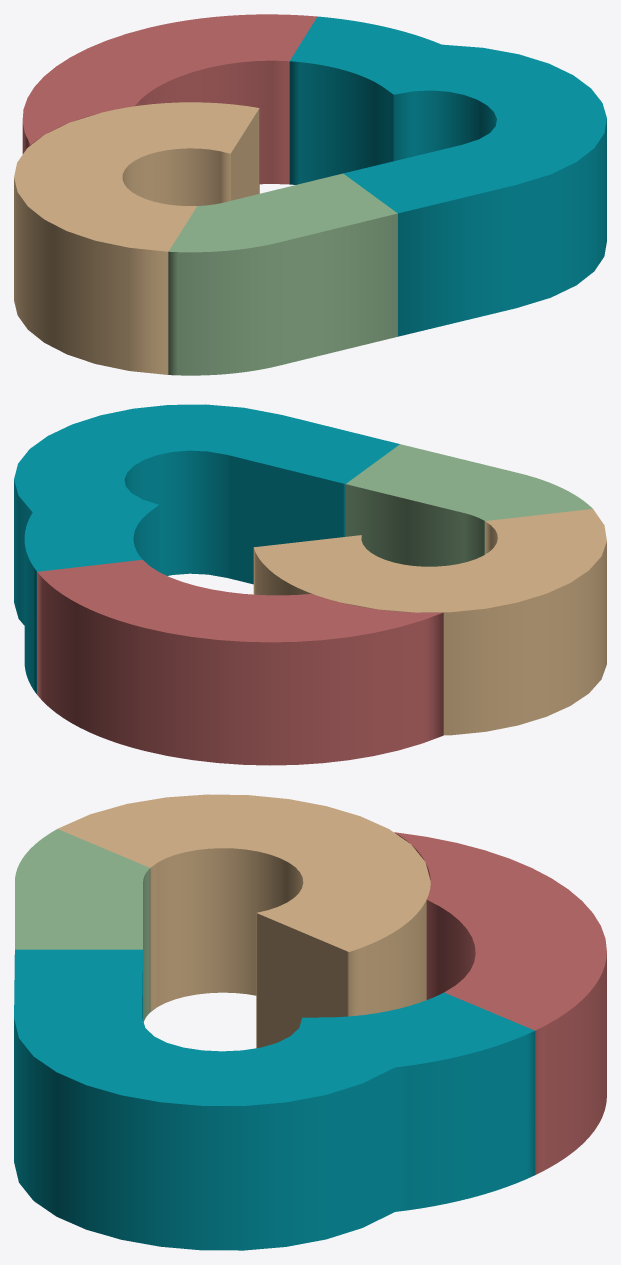
Rendered from google-cloud.fbx.
The picture shows the model from 3 angles, top to bottom: view 1: azimuth 30°, elevation 25°; view 2: azimuth 150°, elevation 25°; view 3: azimuth 270°, elevation 25°; orthographic projection. The views are drawn at different scales.
Visible parts, largest first — view 1: path8, path12-6, path10, path6; view 2: path6, path8, path12-6, path10; view 3: path8, path12-6, path6, path10.
Part boxes in pixels (left/top/right/bottom): path8: left=289, top=16, right=606, bottom=336; path12-6: left=14, top=102, right=259, bottom=374; path10: left=168, top=173, right=397, bottom=375; path6: left=22, top=14, right=317, bottom=184; path6: left=37, top=559, right=443, bottom=765; path8: left=14, top=404, right=399, bottom=693; path12-6: left=253, top=509, right=606, bottom=735; path10: left=345, top=444, right=592, bottom=566; path8: left=14, top=949, right=535, bottom=1250; path12-6: left=57, top=794, right=430, bottom=1048; path6: left=394, top=832, right=606, bottom=1174; path10: left=15, top=829, right=150, bottom=1021.
Bounding box in the file's own units: 95.12 × 20.57 × 76.52.
